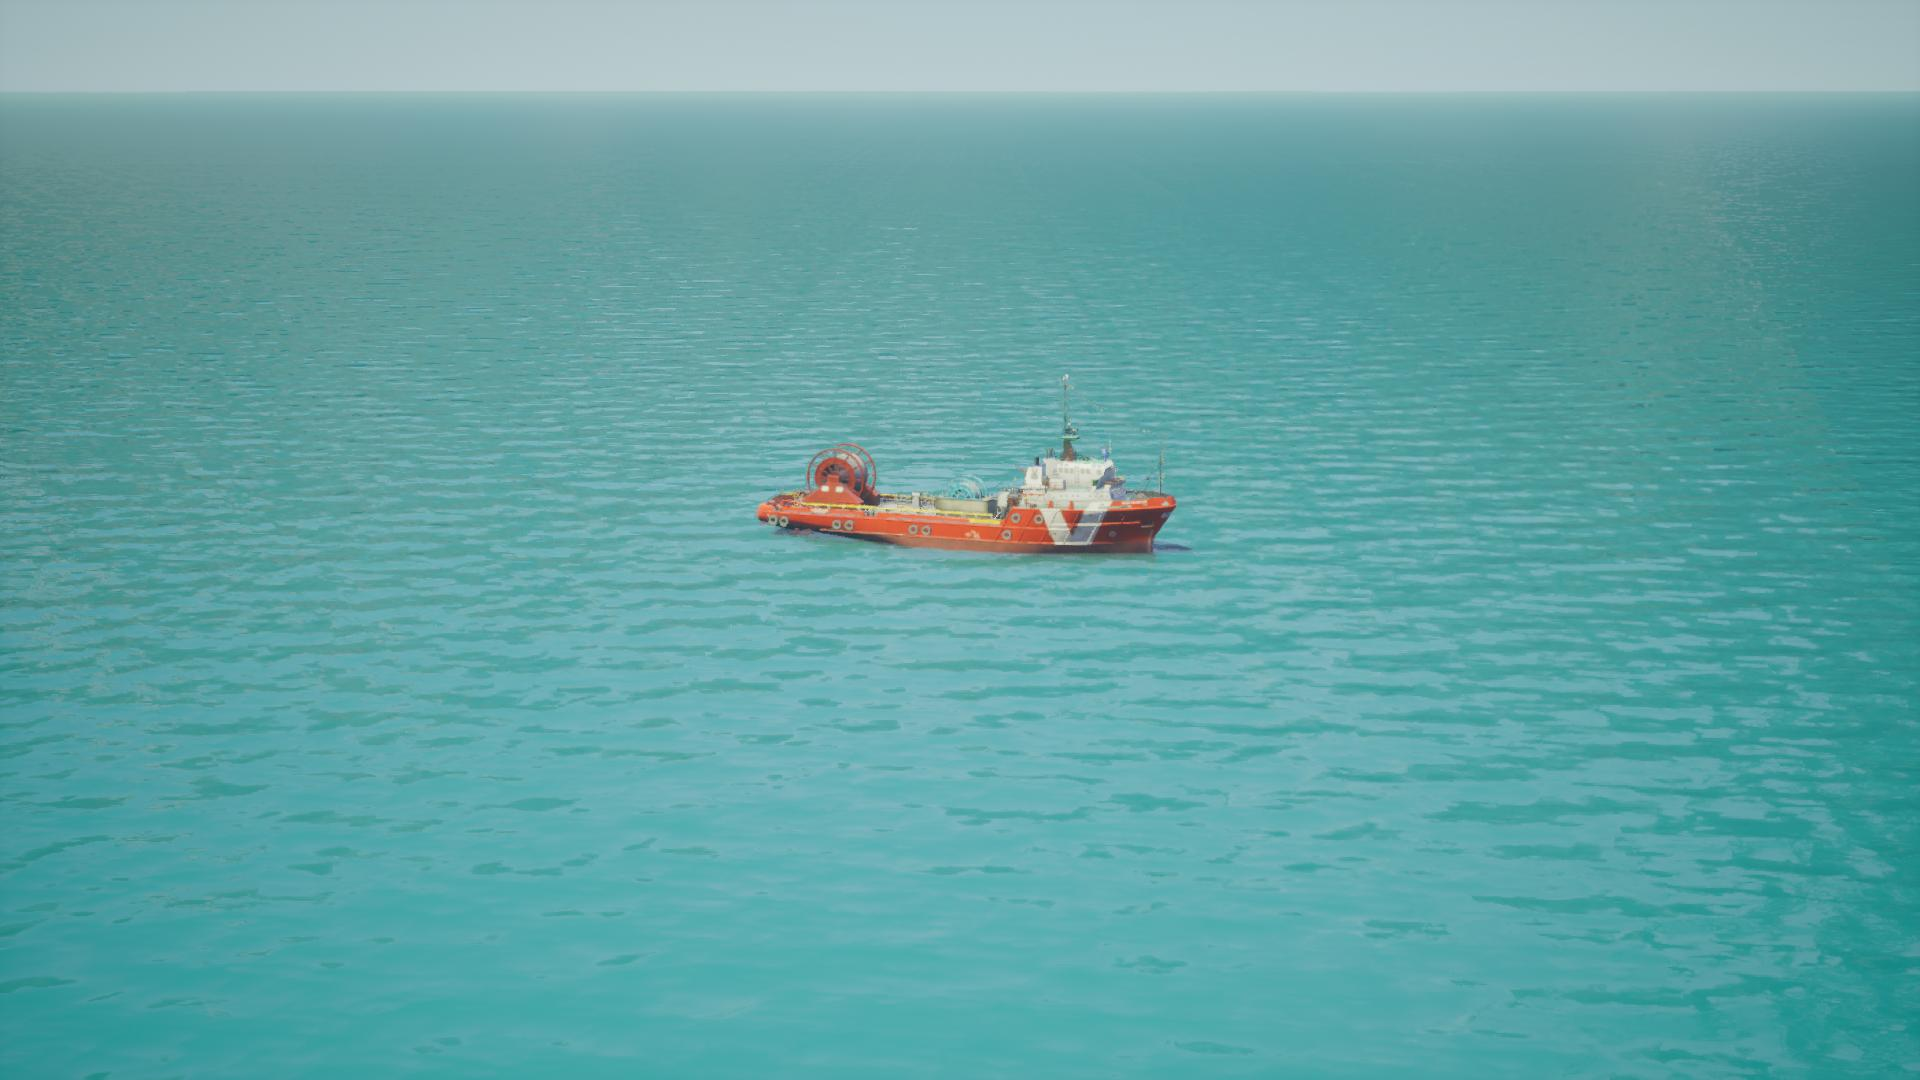Tug Boat: (756, 380, 1183, 563)
